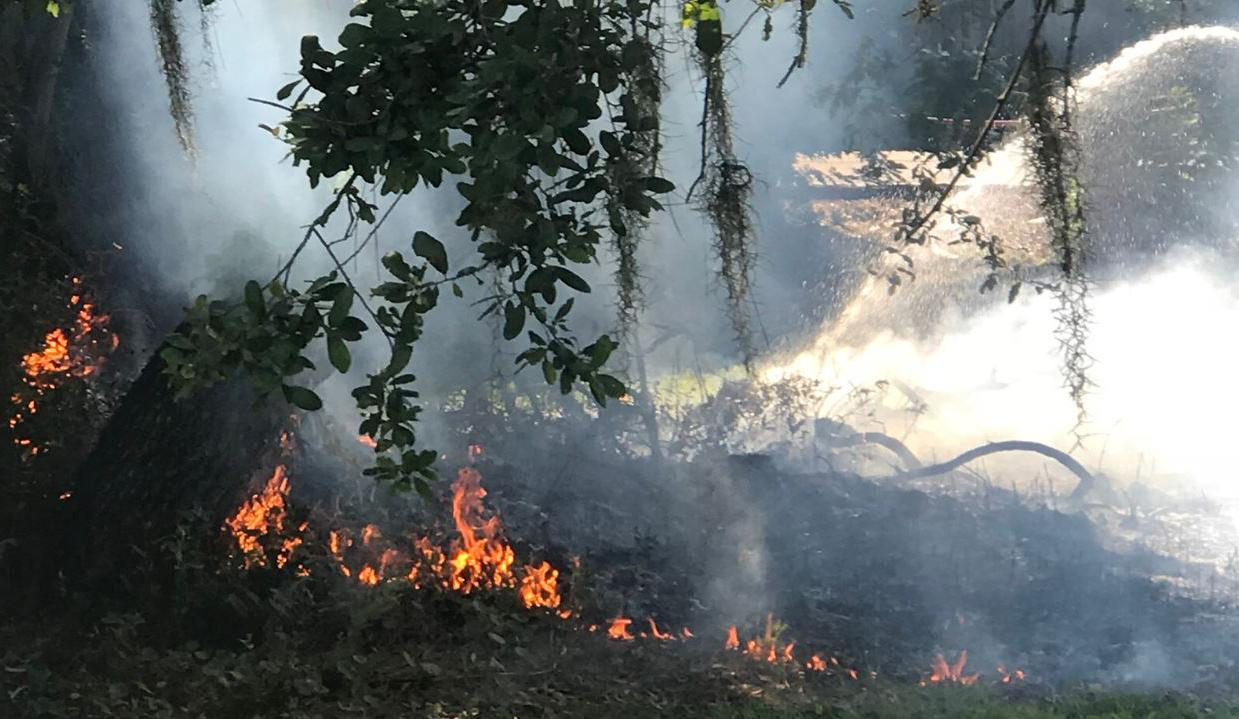Fire: (229, 453, 583, 623), (10, 274, 125, 449), (730, 620, 852, 682), (927, 642, 1045, 694), (609, 601, 696, 648)
